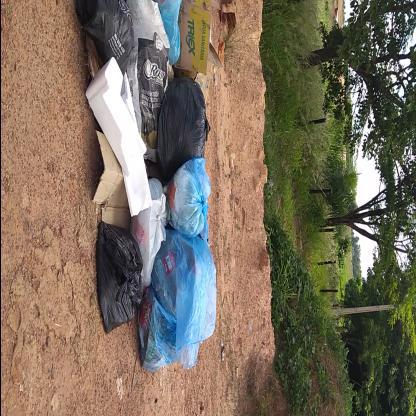lixo: (90, 9, 214, 365)
